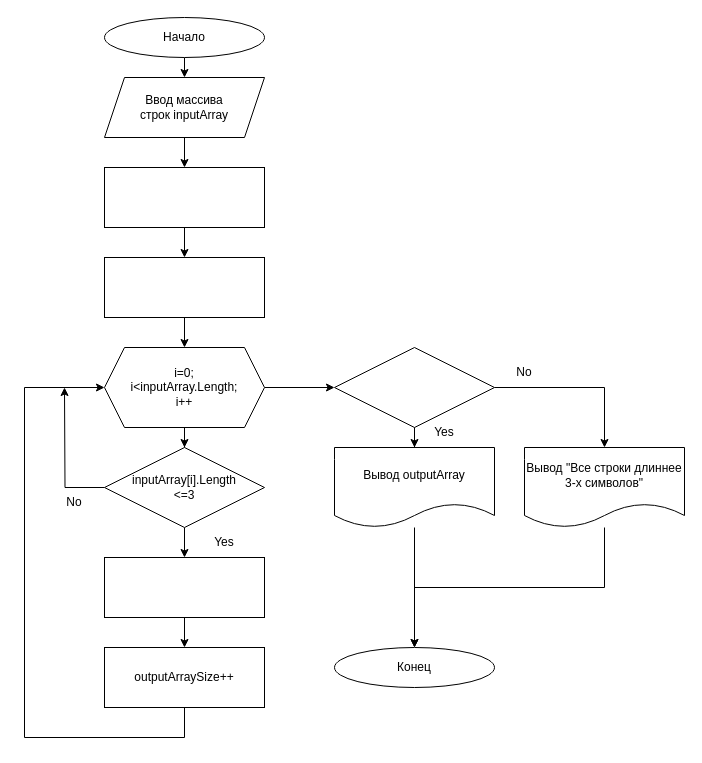
Some shapes in this 702 by 763 pixel diagram are drawn without their labels. The centre of each missing label's shape, as x and y in pixels:
"outputArray[outputArraySize] = inputArray[i]" belongs at point (184, 587).
"outputArraySize = 0" belongs at point (184, 287).
"outputArraySize > 0" belongs at point (414, 387).
"Создание пустого массива outputArray" belongs at point (184, 197).
